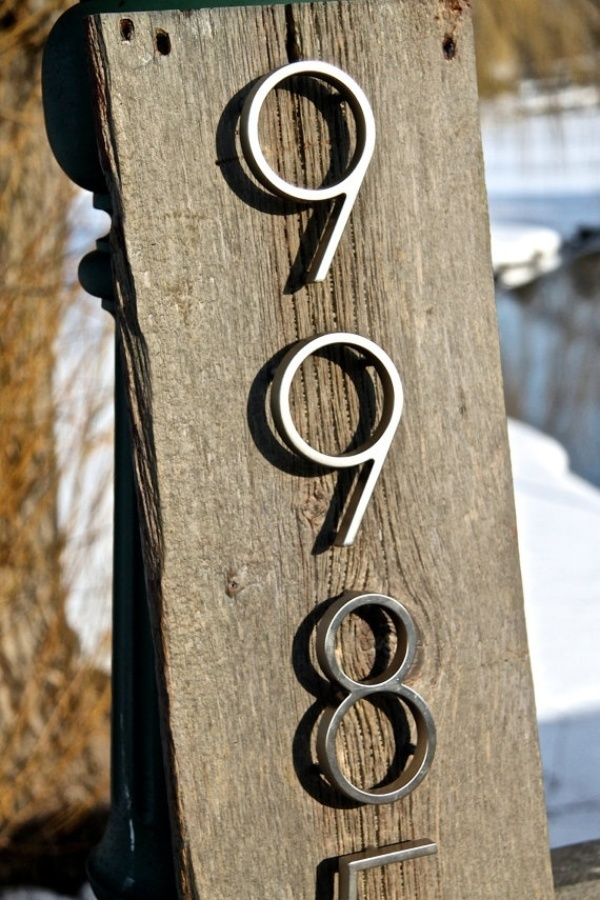text: (225, 57, 240, 811), (241, 57, 256, 811), (257, 57, 272, 811), (273, 57, 288, 811), (289, 57, 304, 811), (305, 57, 320, 811), (321, 57, 336, 811), (337, 57, 352, 811), (353, 57, 368, 811), (369, 57, 384, 811), (385, 57, 400, 811), (401, 57, 416, 811), (417, 57, 432, 811), (433, 57, 448, 811), (449, 57, 451, 811), (223, 57, 224, 811)
